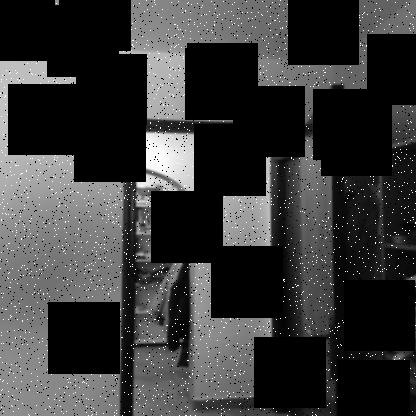Porte: (121, 84, 354, 416)
